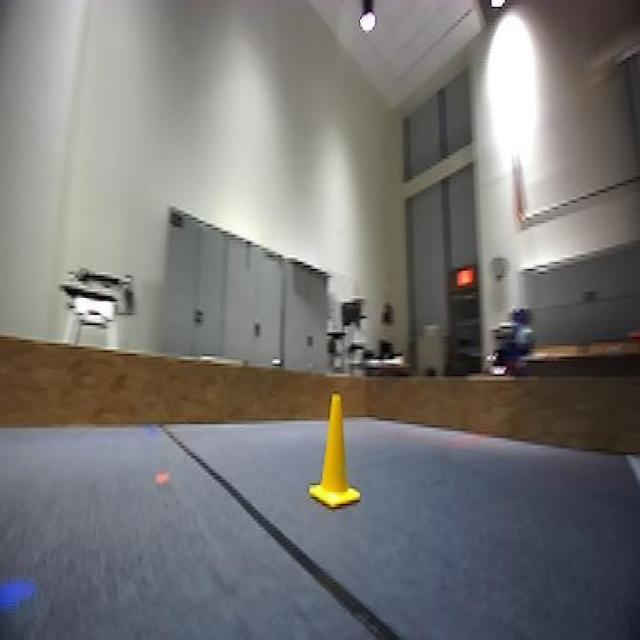frc_cone: (309, 395, 361, 514)
